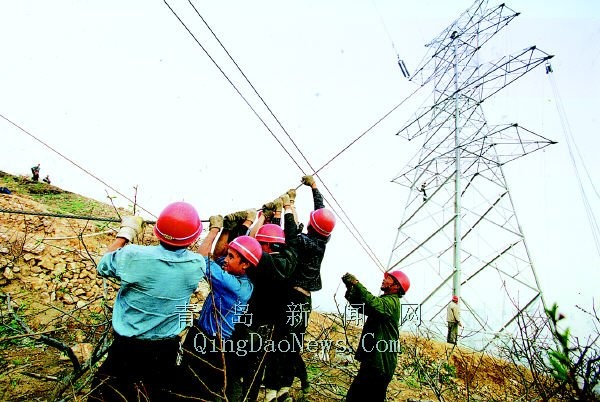red: (151, 200, 203, 252), (221, 235, 262, 276), (302, 206, 335, 240), (255, 223, 285, 255), (379, 267, 410, 297), (450, 294, 459, 305)
